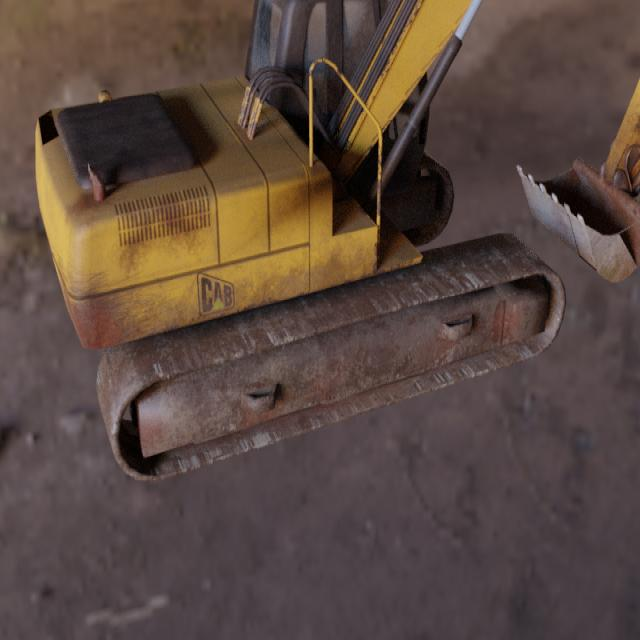excavator: (35, 0, 640, 483)
